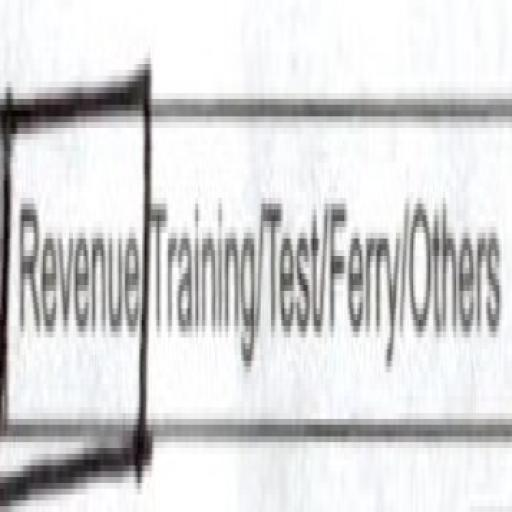check: (0, 29, 151, 512)
